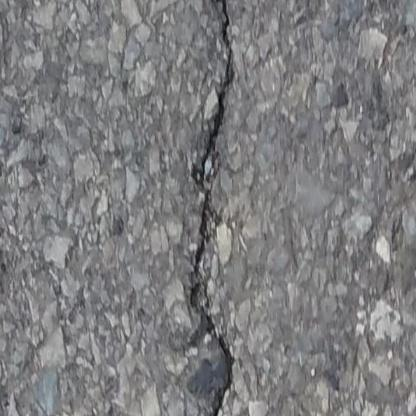Cracks: (188, 0, 241, 416)
